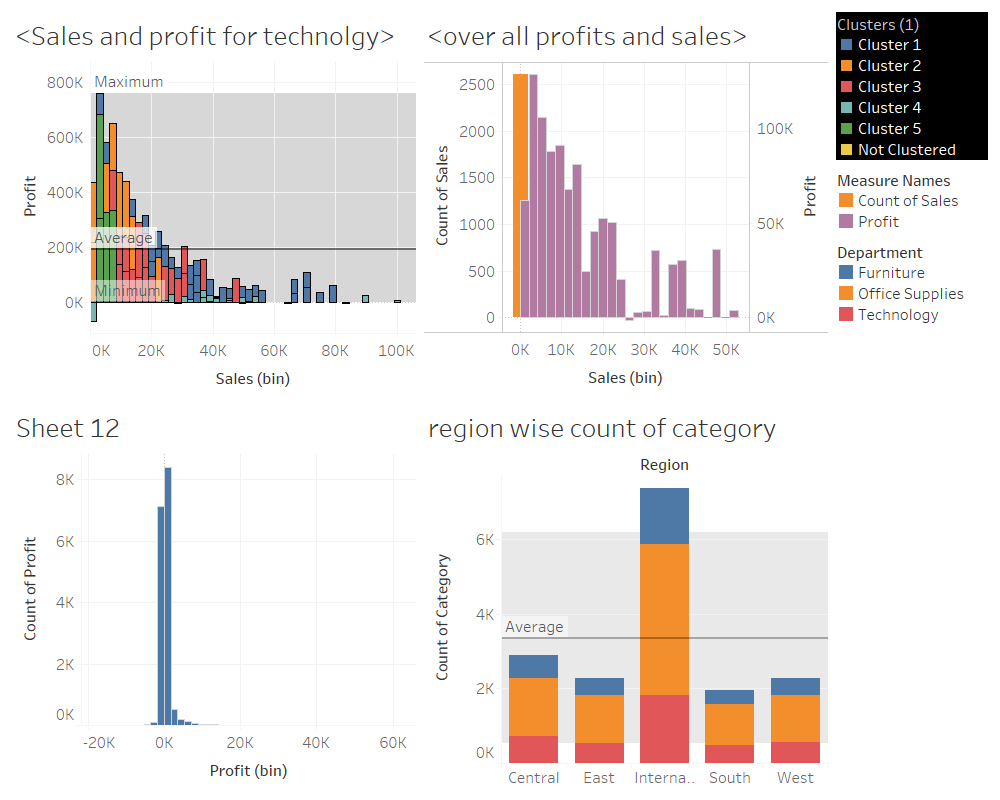

Layout of this report page (visuals, bound fields, positions):
{"tool":"tableau","page":{"name":"Dashboard 4","canvas":[1000,800],"ordinal":3},"visuals":[{"type":"worksheet","title":"Sheet 14","mark":"Automatic","rows":["Profit"],"cols":["Sales (bin)"],"box":[8,8,412,392]},{"type":"worksheet","title":"Sheet 13","mark":"Automatic","rows":["Sales","Profit"],"cols":["Sales (bin)"],"box":[420,8,412,392]},{"type":"legend","title":"Sheet 14","param":"[federated.1t2m9ma0ygvi2v10ffru11um78qy].[none:AdhocCluster:2:ok]","box":[832,8,160,156]},{"type":"legend","title":"Sheet 13","param":"[federated.1t2m9ma0ygvi2v10ffru11um78qy].[:Measure Names]","box":[832,164,160,72]},{"type":"legend","title":"Sheet 11","param":"[federated.1t2m9ma0ygvi2v10ffru11um78qy].[none:Department:nk]","box":[832,236,160,93]},{"type":"worksheet","title":"Sheet 12","mark":"Automatic","rows":["Profit"],"cols":["Profit (bin)"],"box":[8,400,412,392]},{"type":"worksheet","title":"Sheet 11","mark":"Automatic","rows":["Category"],"cols":["Region"],"box":[420,400,412,392]}]}

Visuals, with their boxes in screenshot pixels (x1, y1, x2, y2), scaled from the page's 1000x800 canvas onto the 1000x800 screenshot:
"Sheet 14" worksheet: 8,8,420,400
"Sheet 13" worksheet: 420,8,832,400
"Sheet 14" legend: 832,8,992,164
"Sheet 13" legend: 832,164,992,236
"Sheet 11" legend: 832,236,992,329
"Sheet 12" worksheet: 8,400,420,792
"Sheet 11" worksheet: 420,400,832,792
